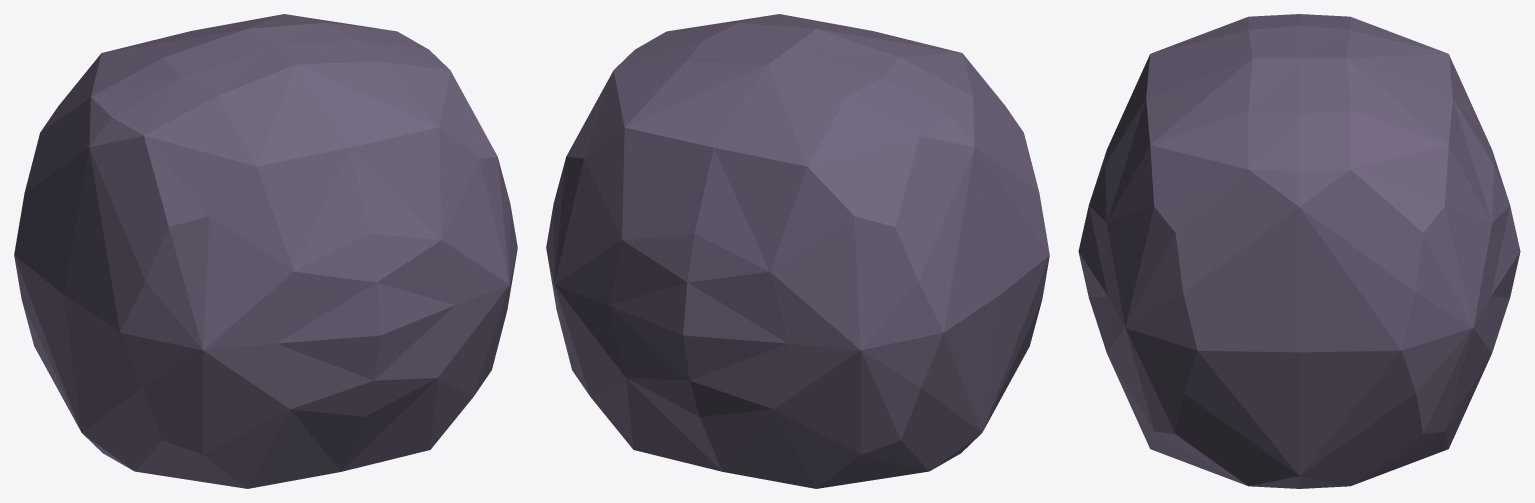
Rendered from Bush.fbx.
3 renders of one model, left to right at view 1: azimuth 30°, elevation 25°; view 2: azimuth 150°, elevation 25°; view 3: azimuth 270°, elevation 25°, orthographic. The views are drawn at different scales.
Parts seen in each view (by area): view 1: Bush; view 2: Bush; view 3: Bush.
Boxes of the visible parts, x1,y1,x2,y2 form: Bush: (14,14,517,488); Bush: (546,14,1049,488); Bush: (1078,14,1520,488).
Size of the model in its own units: 1.57 by 1.51 by 1.55.
